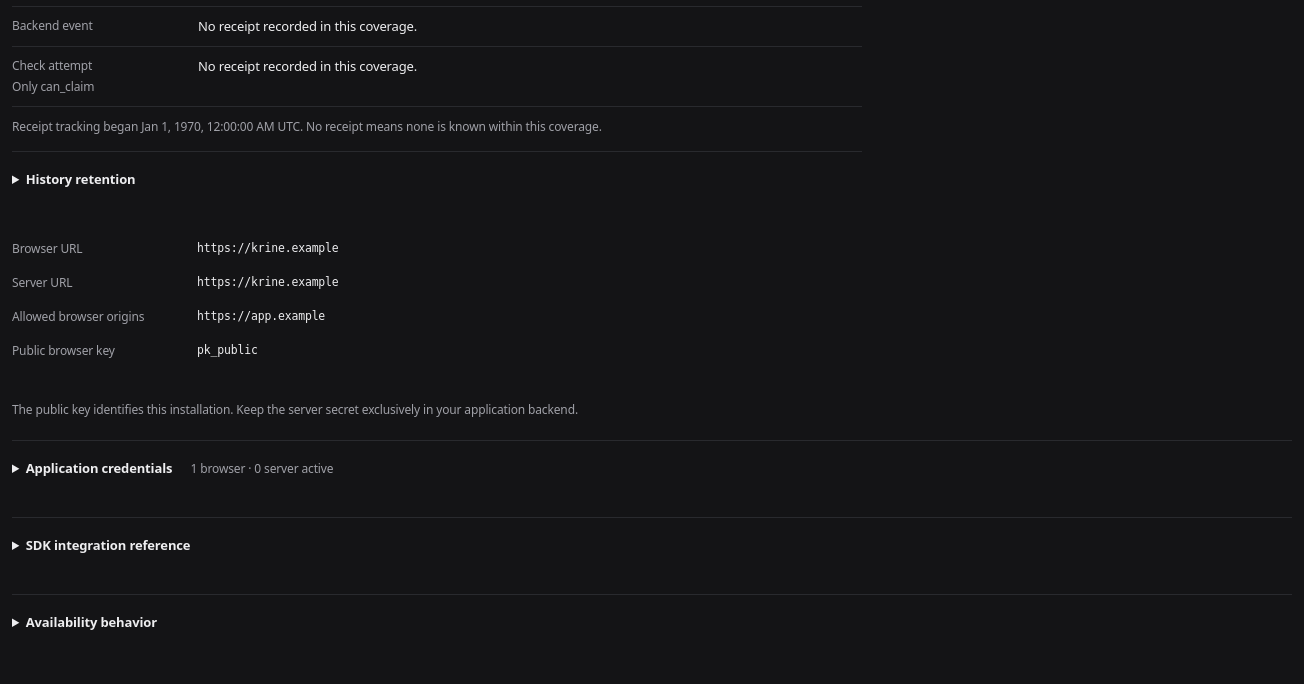
Scenario: application credential interface › reviews exact credential identity before revocation and reconciles null setup afterward
This screenshot has width=1304, height=684.
(page scrolled)
Click the heading "Application credentials" at (99, 468), box [26, 459, 333, 477]
(page scrolled)
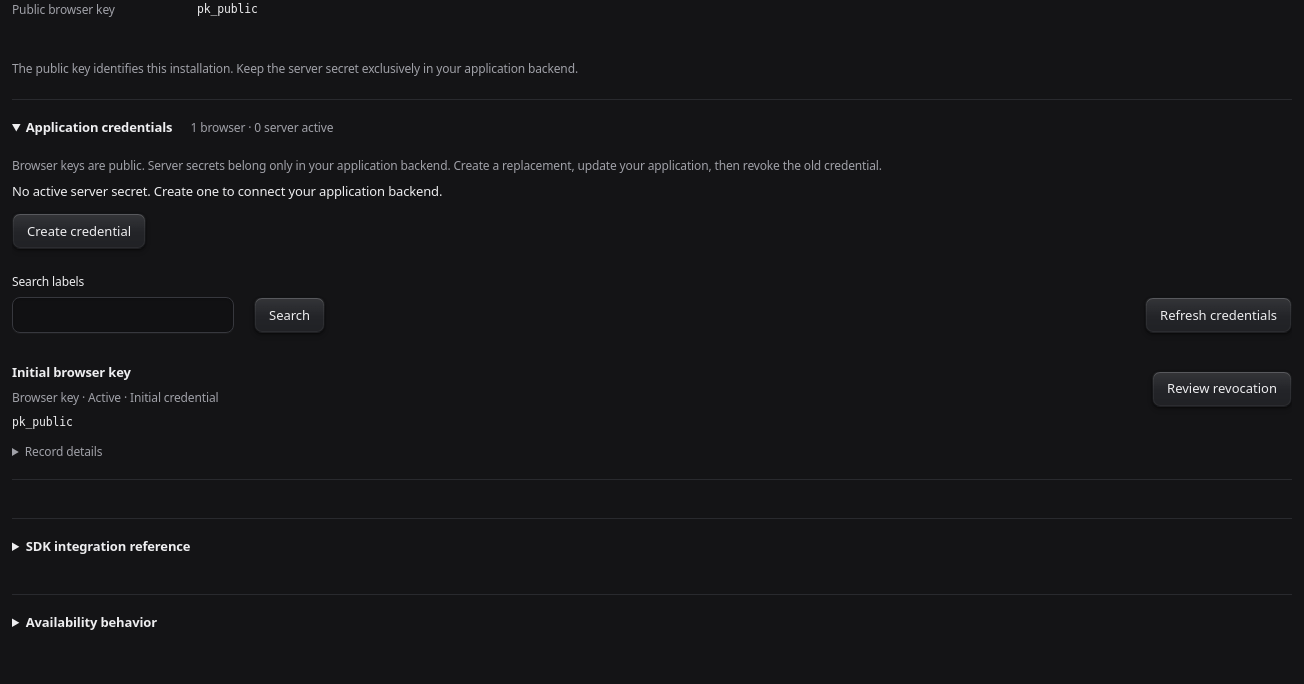
Click the button with aria-label "Review revocation for Initial browser key" at (1222, 388), box [1152, 370, 1292, 406]
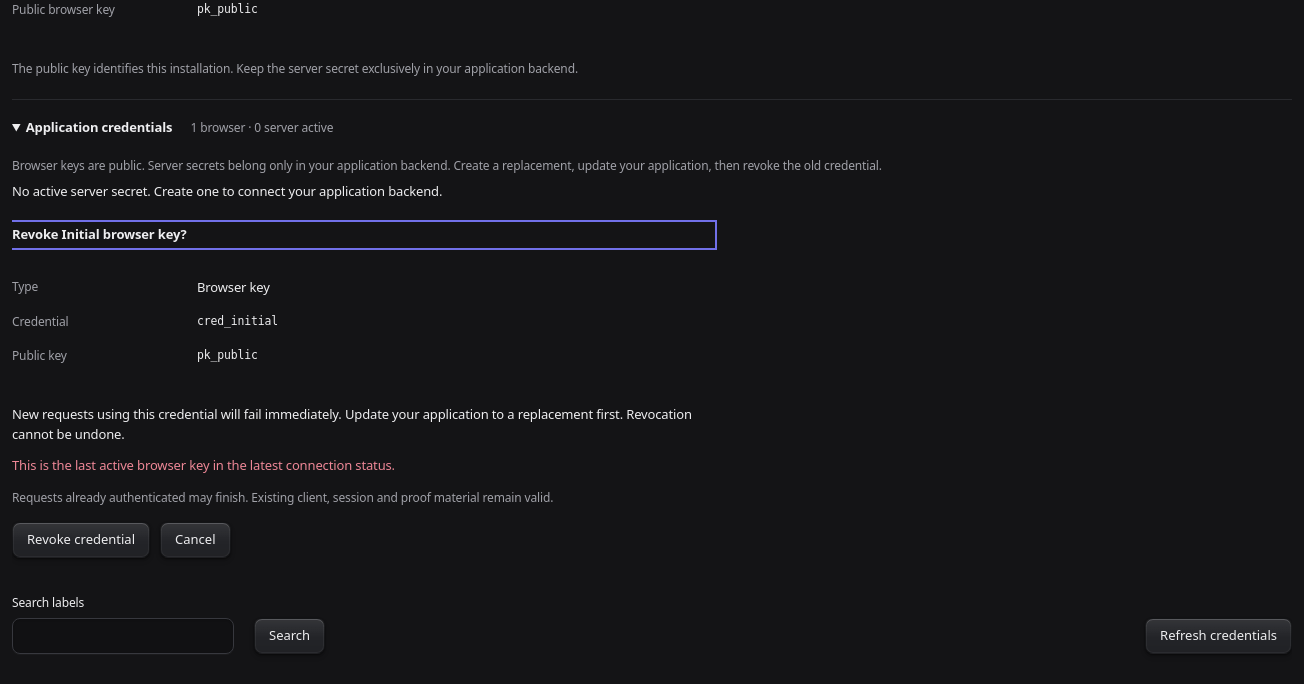
Expected: the text "last active browser key" is shown, [12, 456, 395, 474]
Click the button "Revoke credential" at (81, 540), box [12, 522, 150, 558]
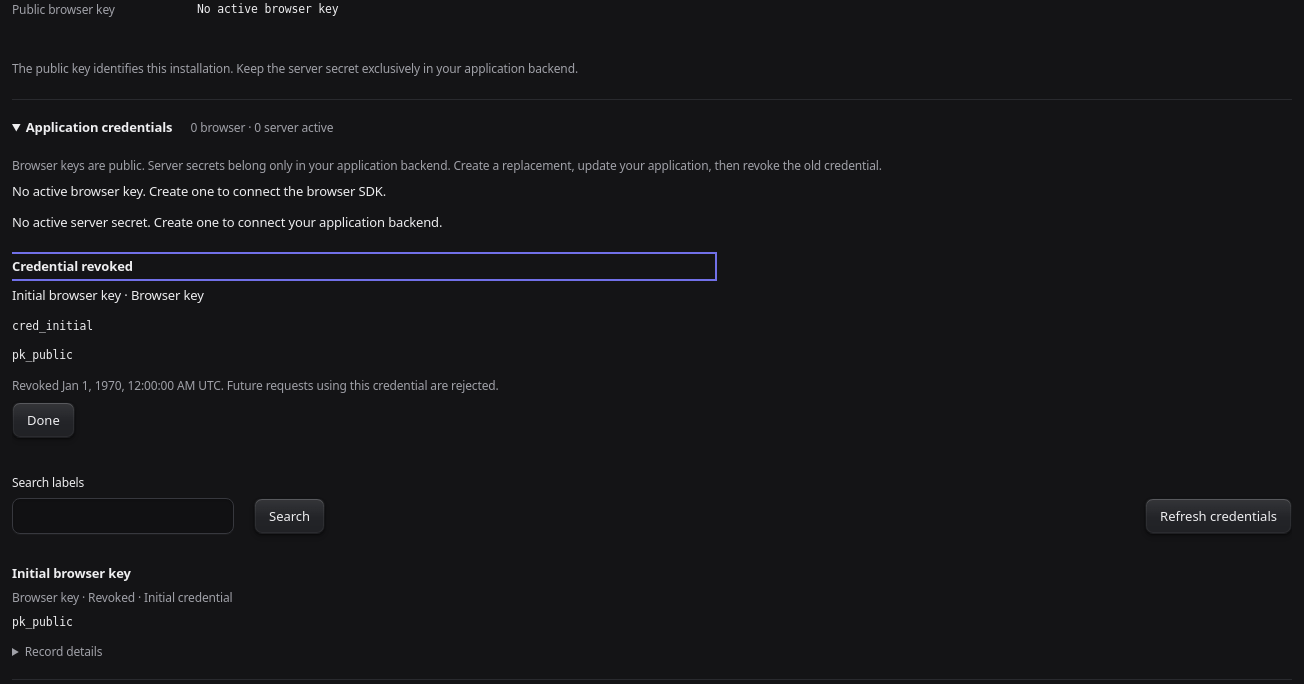
Expected: the heading "Credential revoked" is shown, [12, 257, 133, 275]
Expected: the text "No active browser key" is shown, [197, 2, 339, 16]
Click the button "Done" at (43, 420), box [12, 402, 75, 438]
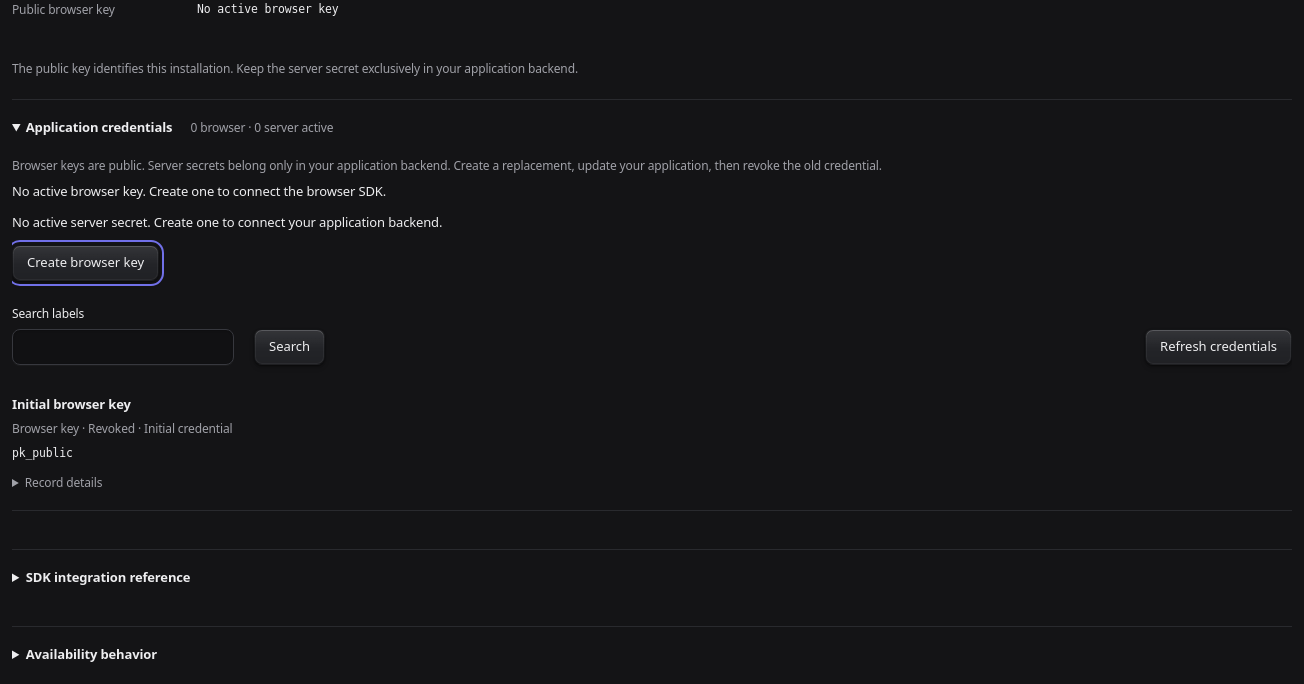
Expected: the button "Create browser key" is shown, [12, 245, 159, 281]
